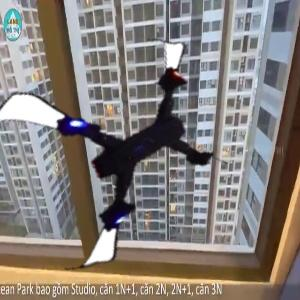drone: (8, 52, 226, 270)
